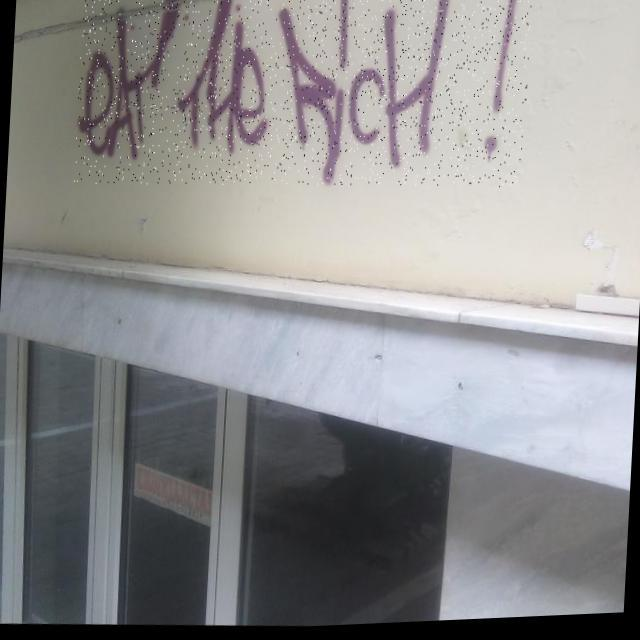-: (73, 0, 532, 207)
